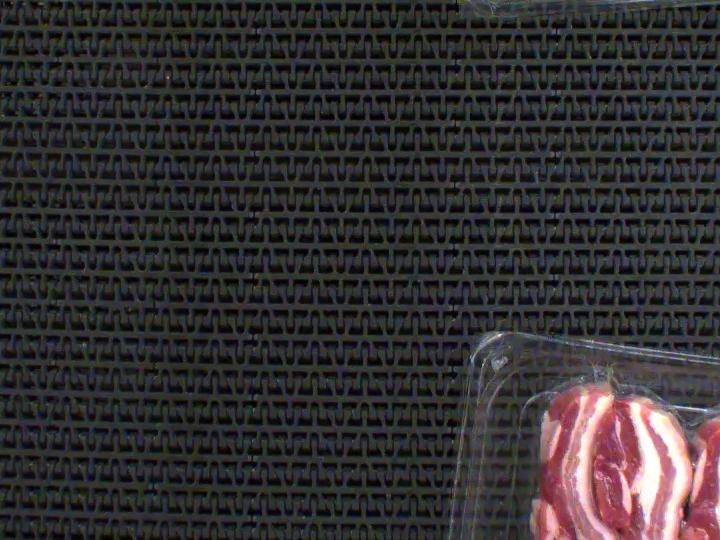packaging-error: (572, 356, 629, 385)
unsealed: (551, 367, 681, 423)
